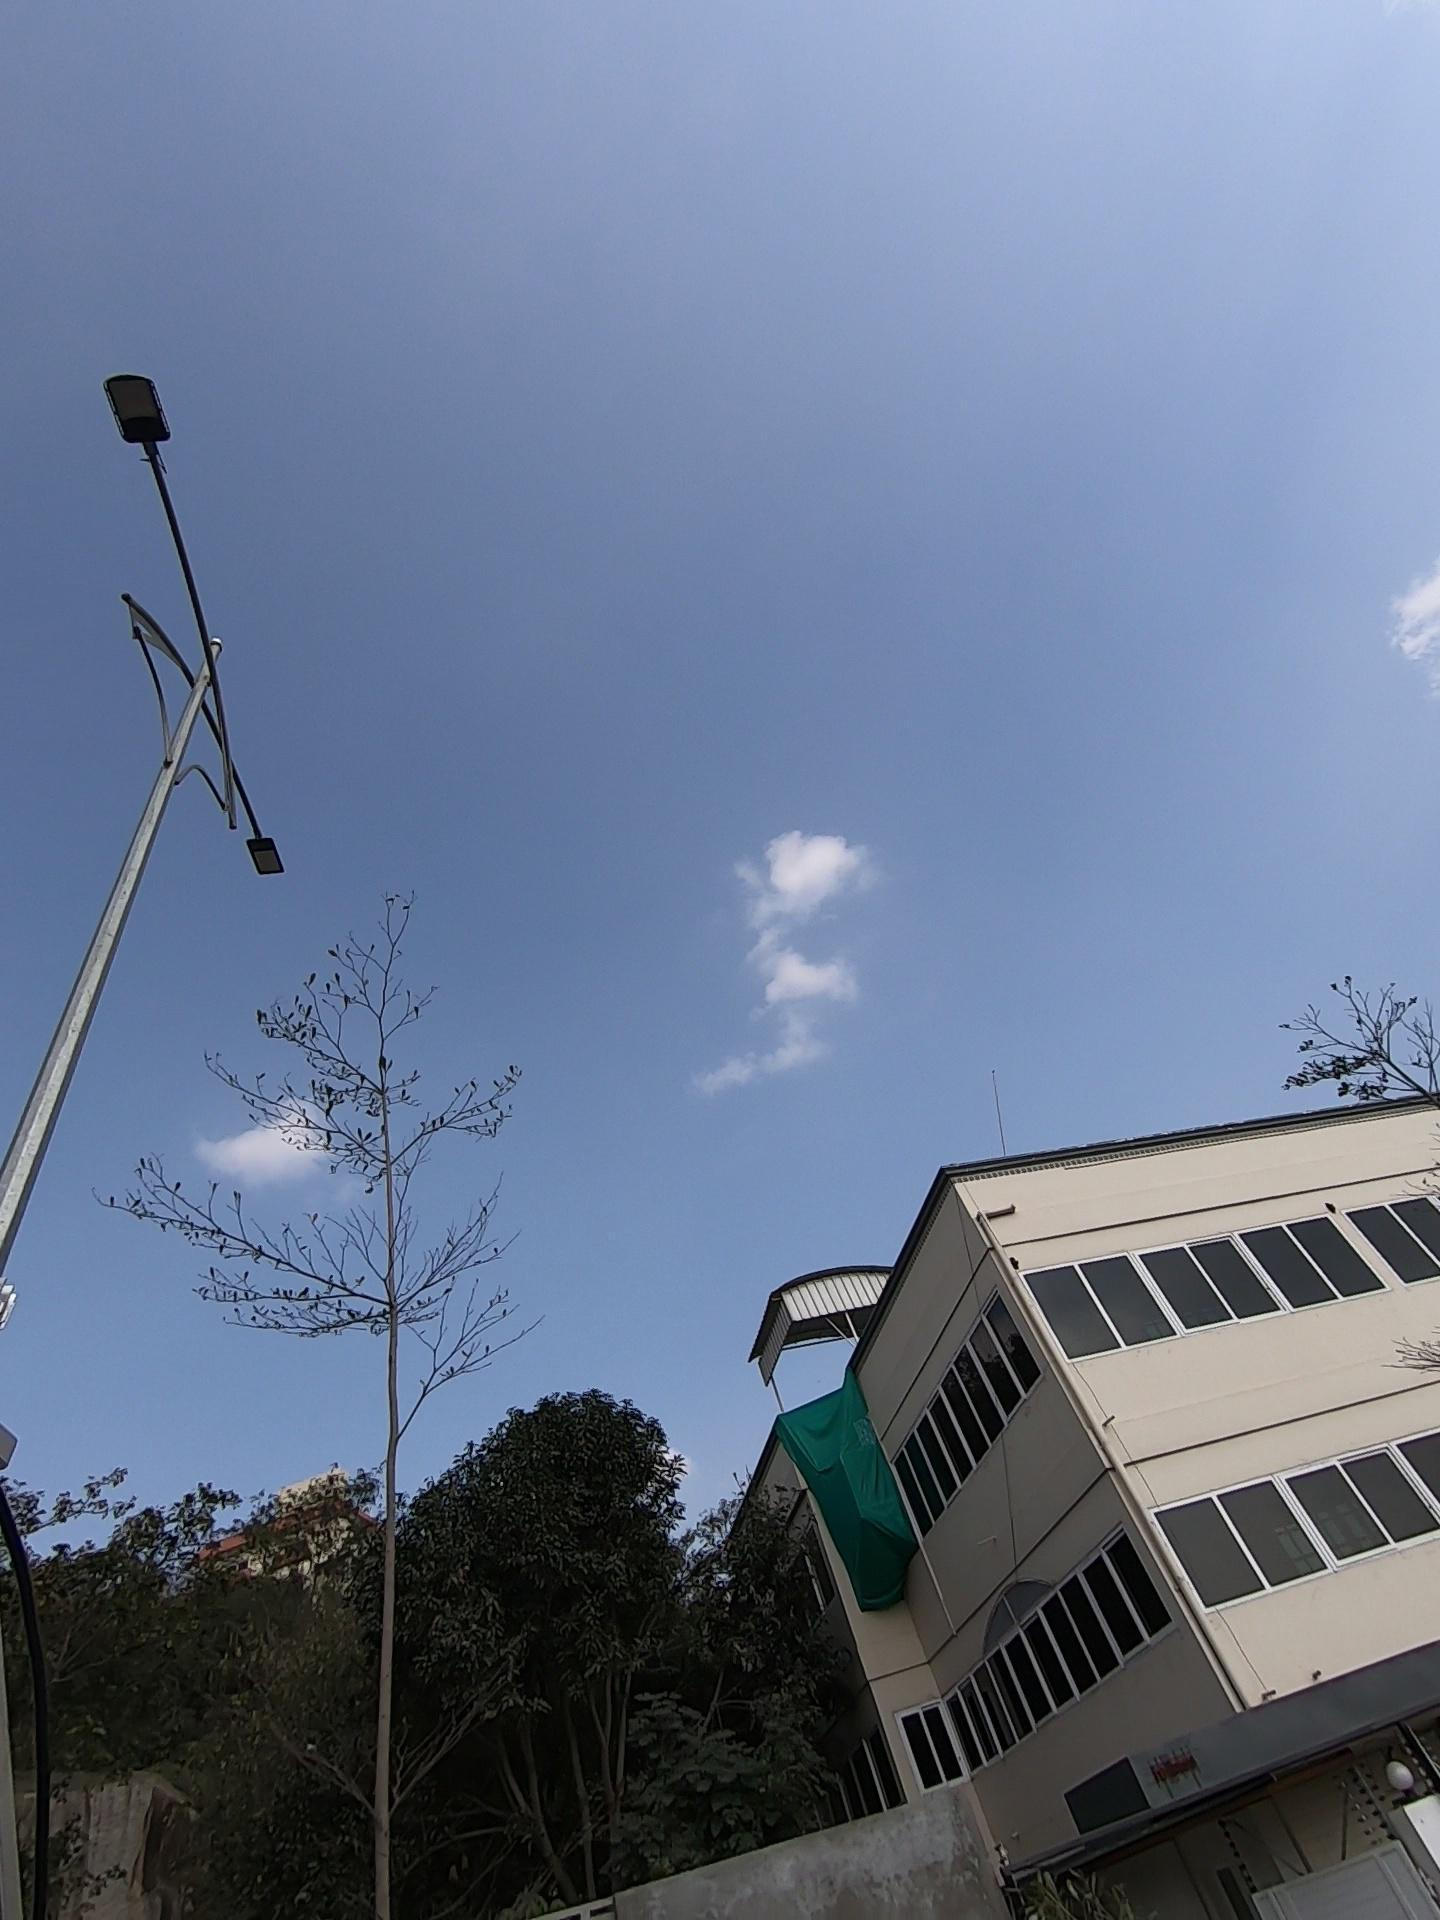off: (30, 271, 576, 987)
